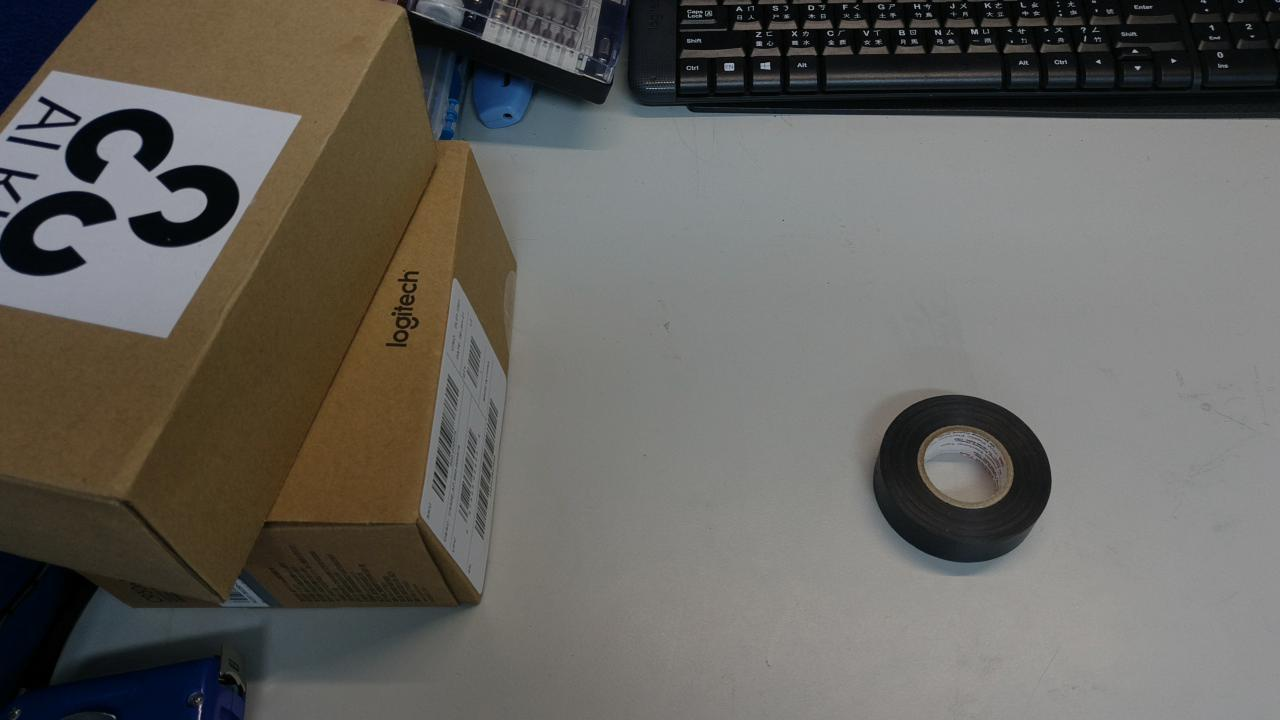circle: (438, 302, 495, 334)
